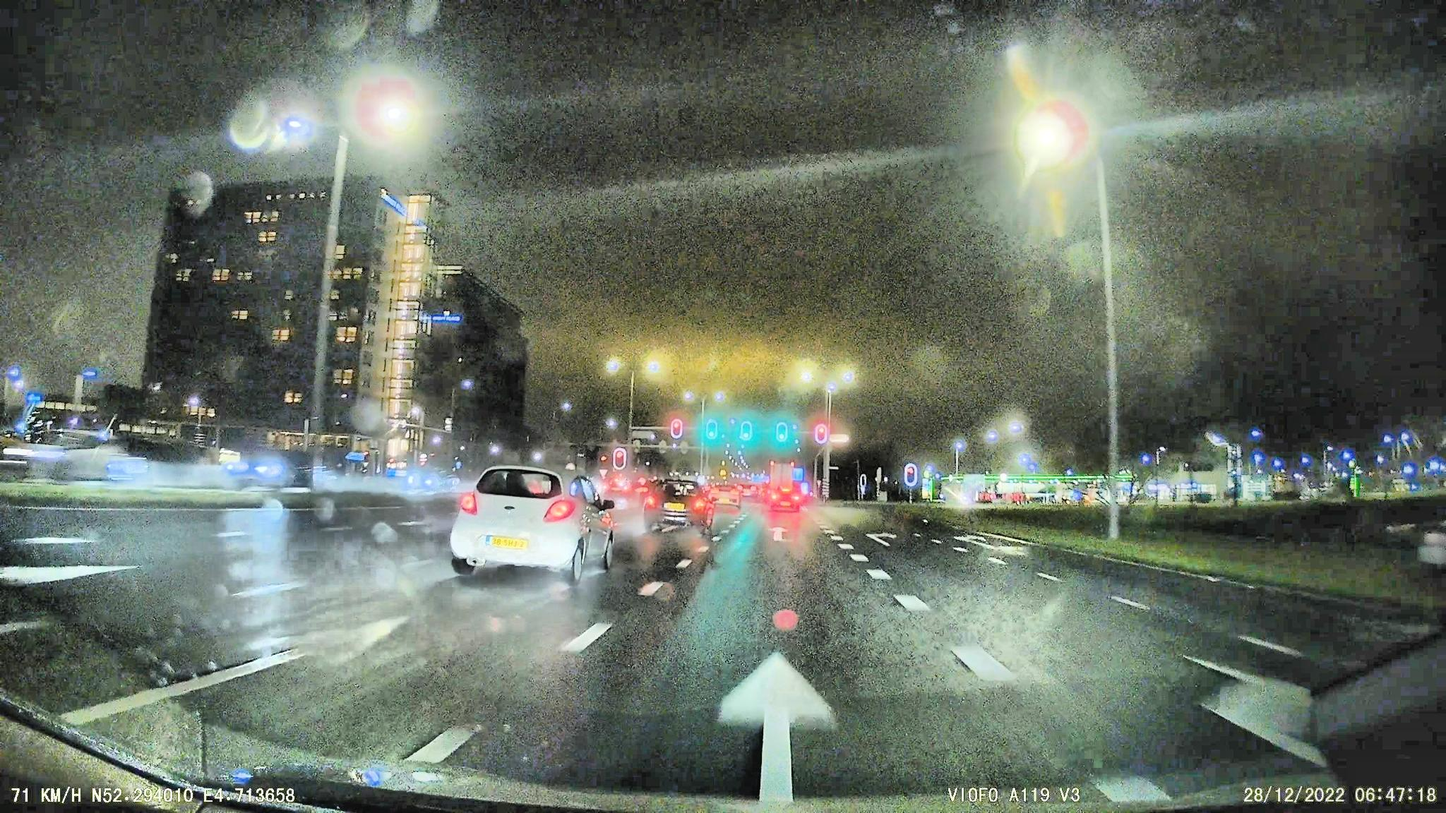Roads: (0, 505, 1339, 813)
